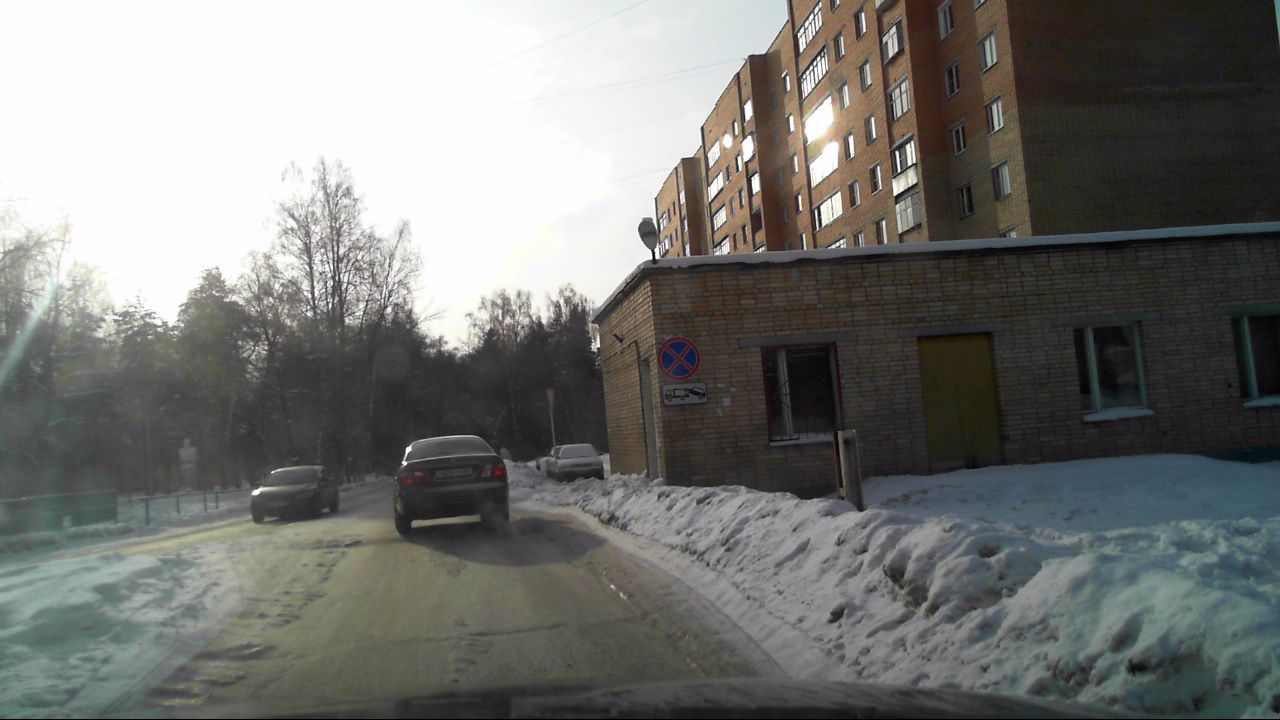No Parking: (658, 337, 700, 379)
